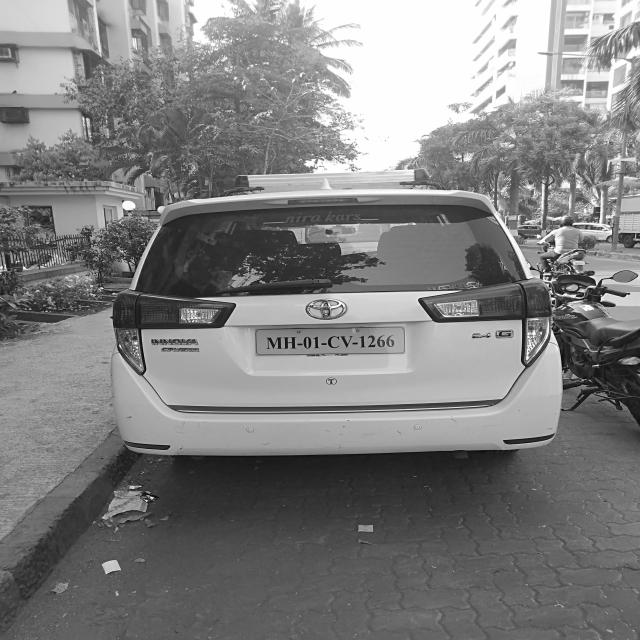car: (105, 185, 568, 468)
license-plate: (257, 328, 404, 355)
